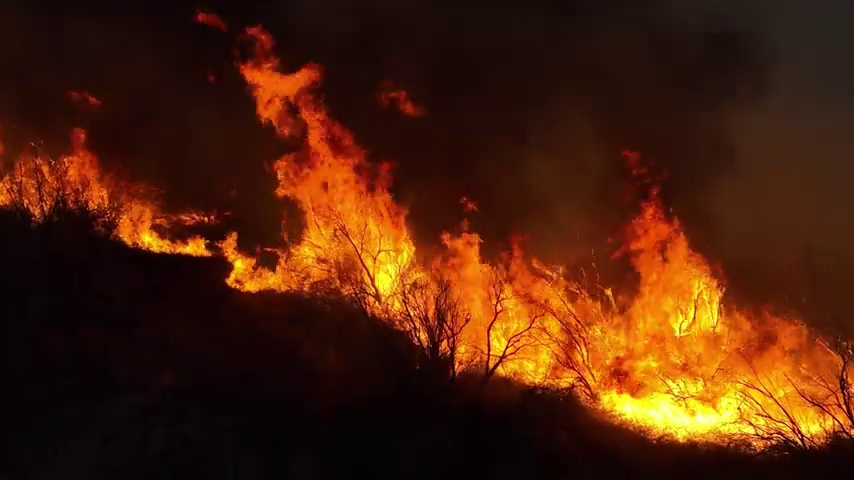forest_fire: (0, 27, 853, 444)
